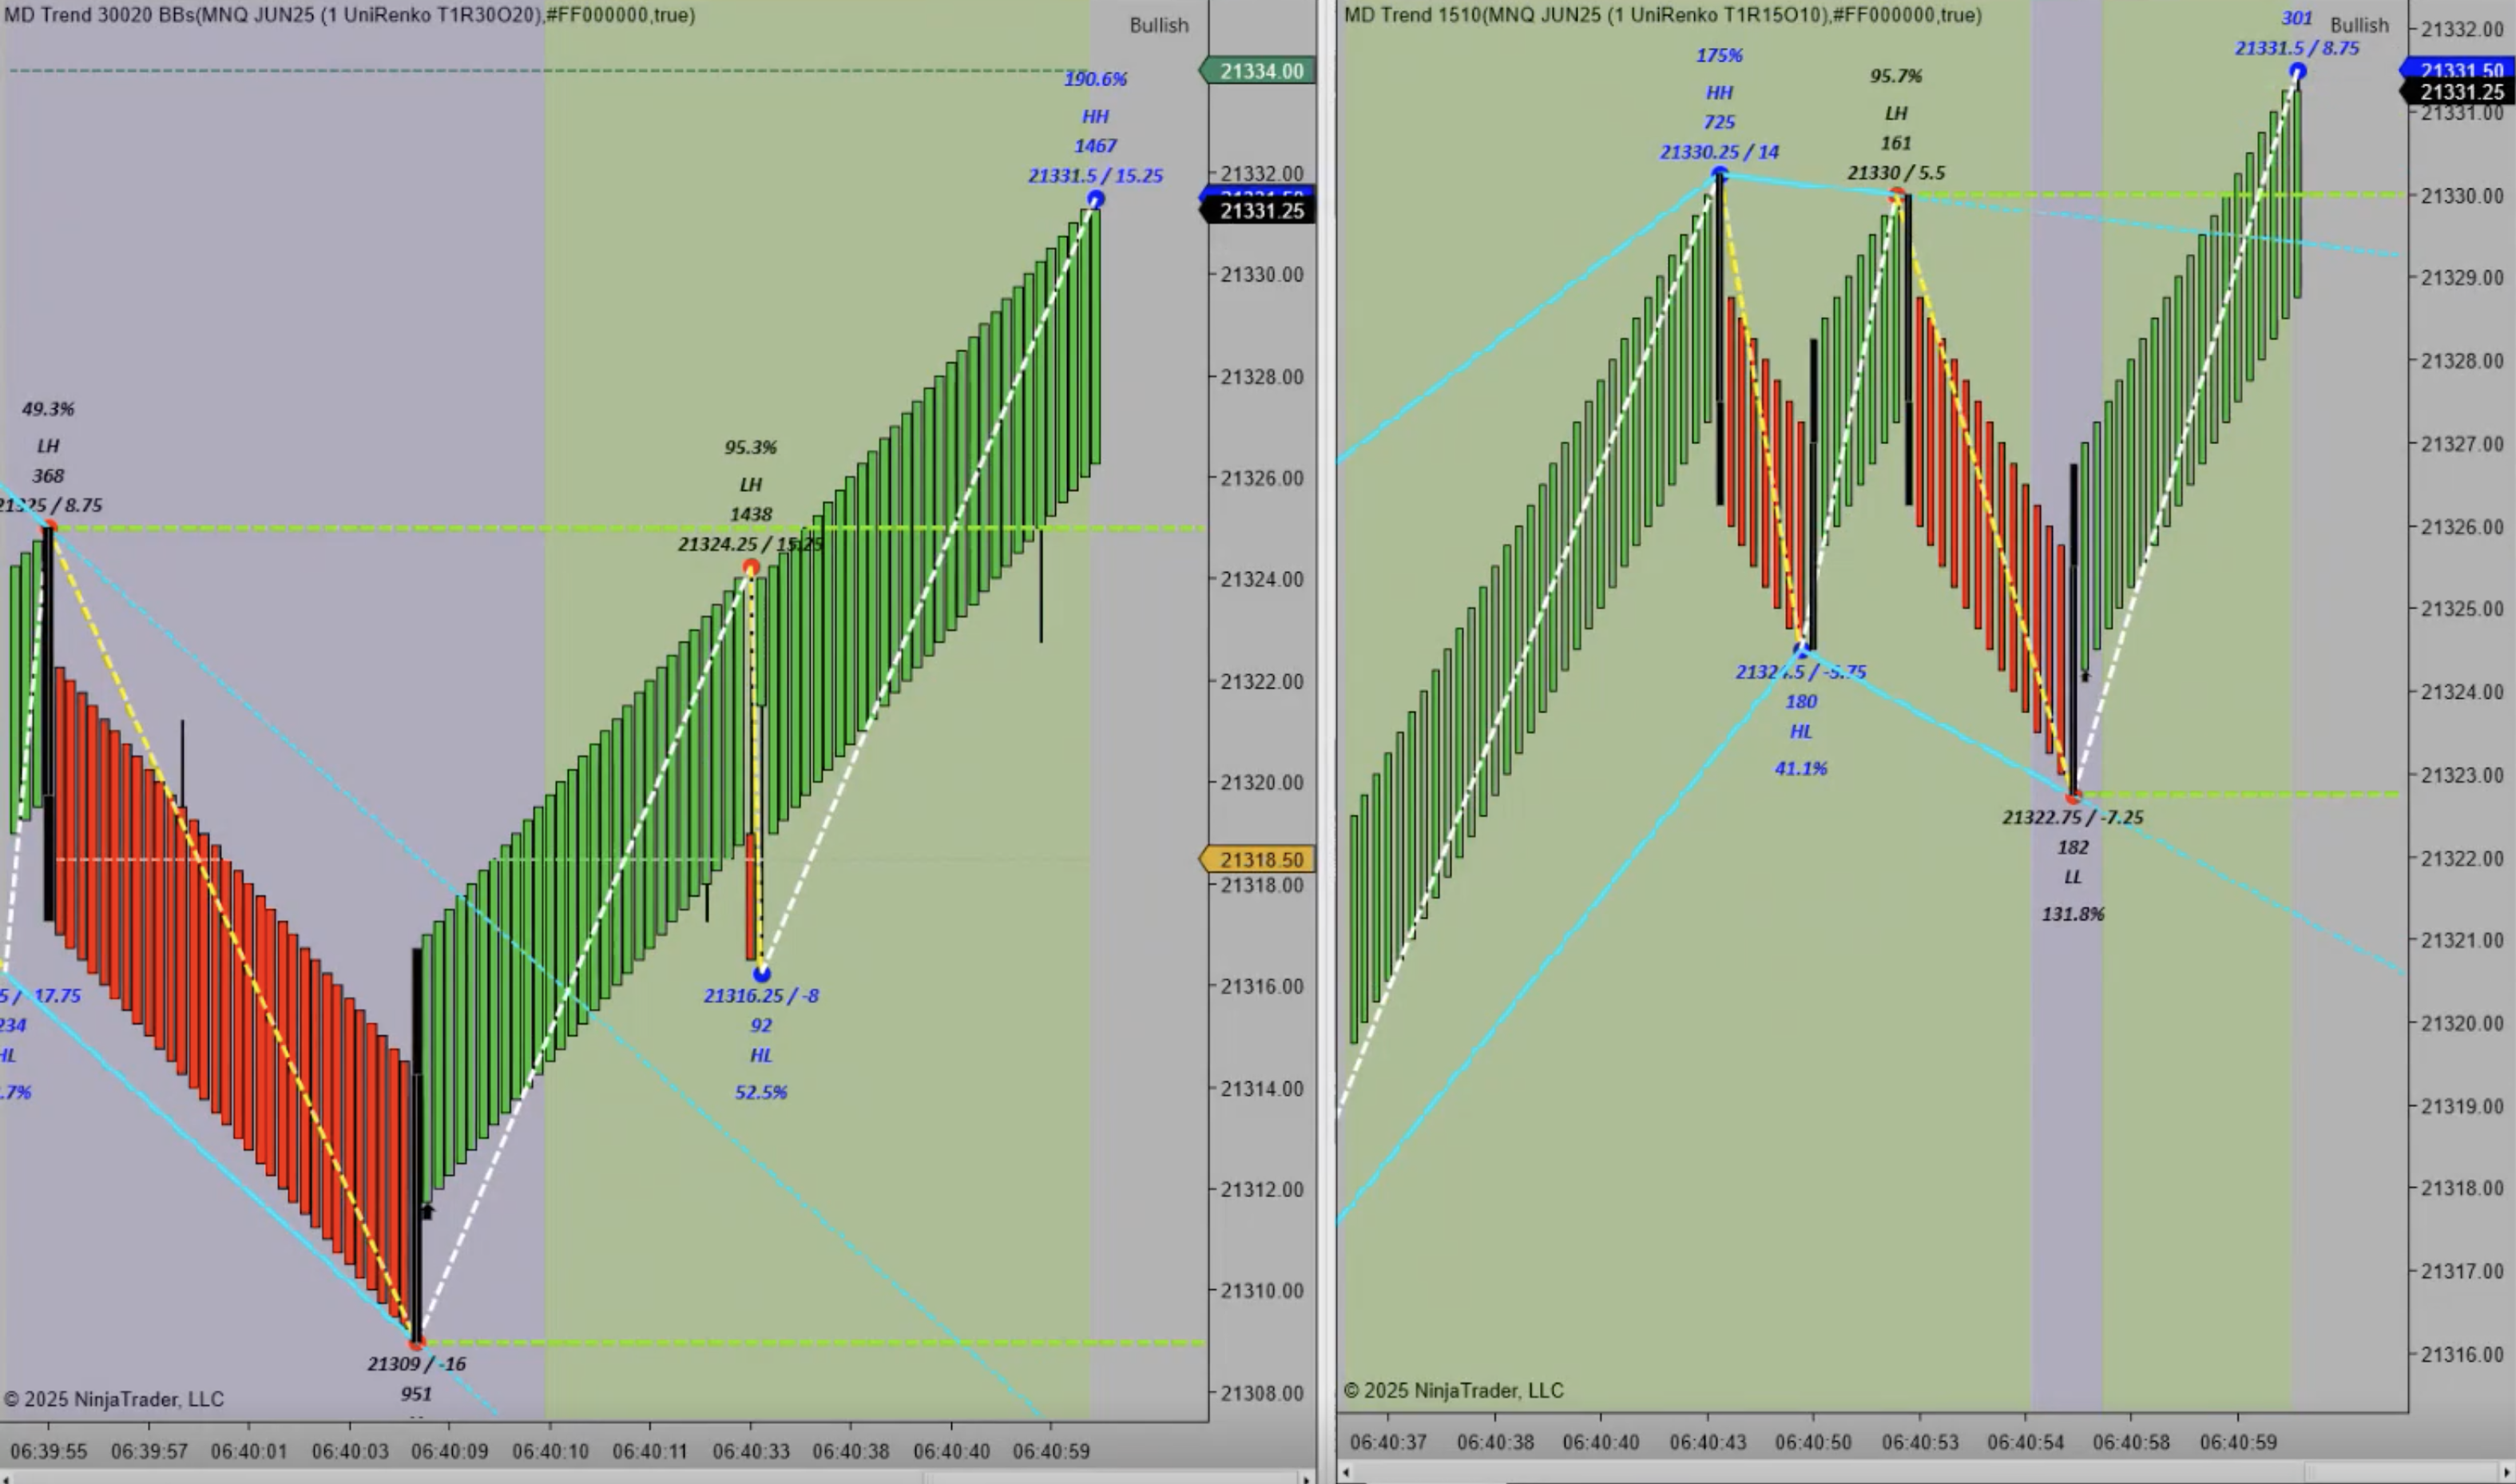candle: (1709, 173, 1733, 516), (1901, 189, 1926, 514), (408, 945, 428, 1336), (44, 525, 62, 933), (1804, 334, 1825, 654), (2065, 459, 2081, 791)
